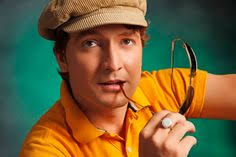Indian_Male: (61, 22, 146, 108)
